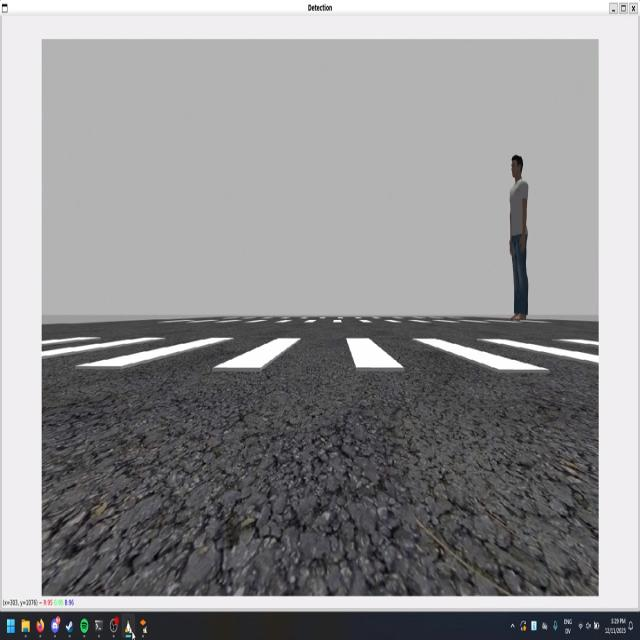crosswalk: (42, 336, 598, 374)
ped: (509, 154, 531, 322)
